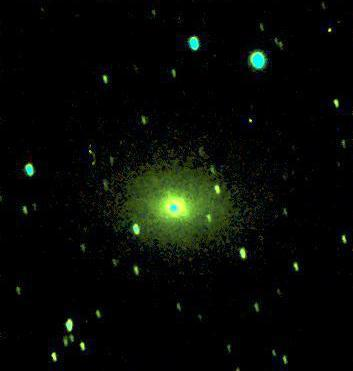star: (151, 173, 181, 203)
